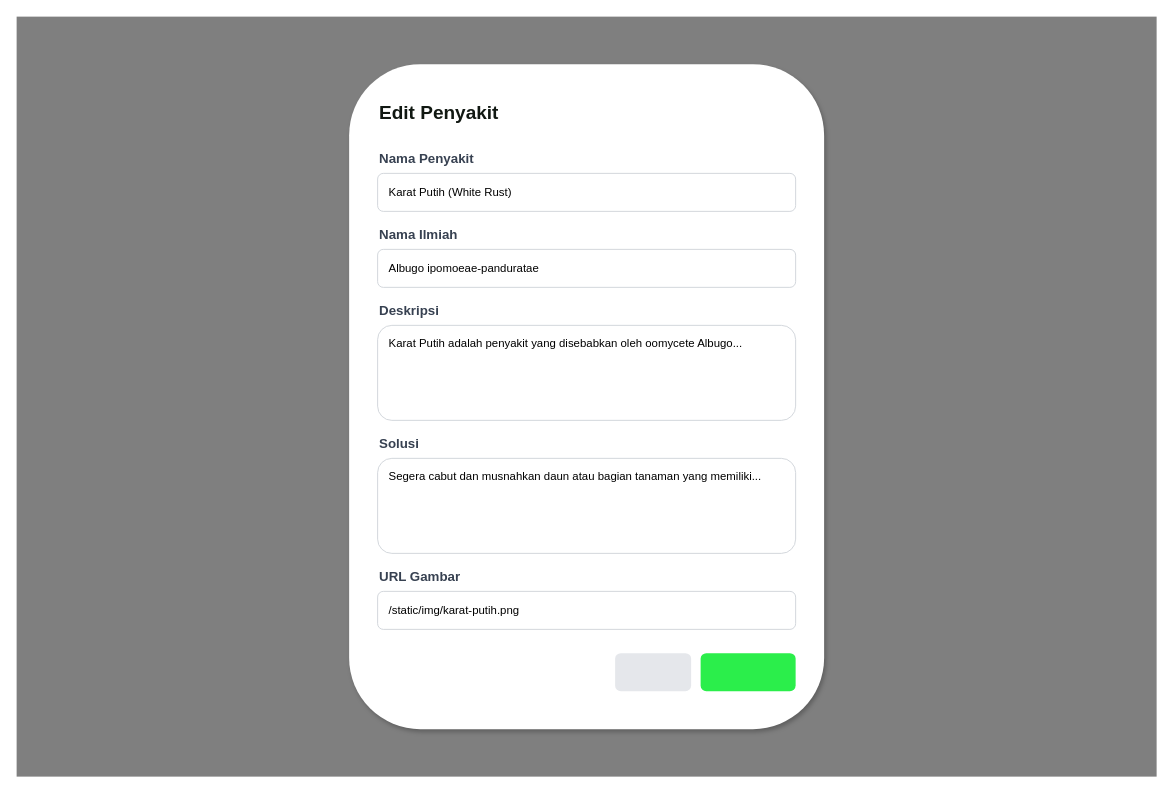
The diagram is 1172 pixels wide and 792 high, and some of its shapes have lost their labels. Each missing label, with the centre of its shape:
Batal: pixel 653 672
Update: pixel 747 672
